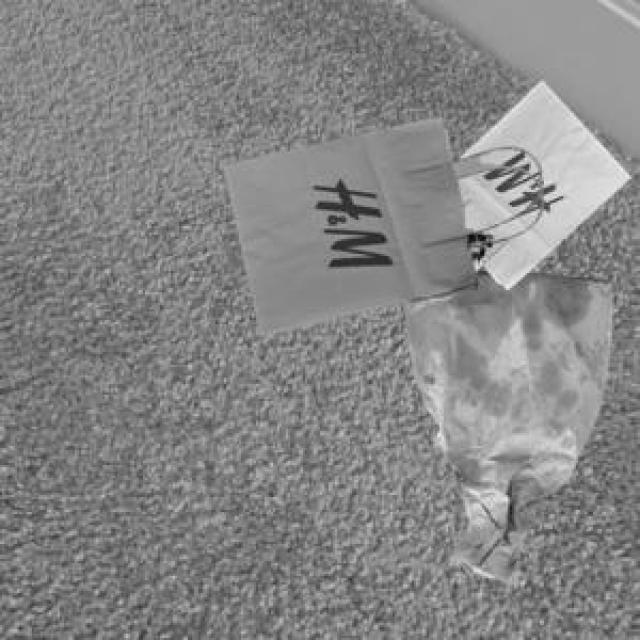paper: (401, 269, 610, 578), (221, 113, 510, 333), (452, 77, 625, 286)
